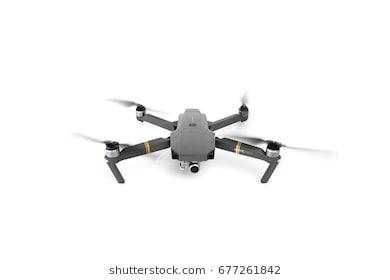drone: (64, 83, 342, 196)
